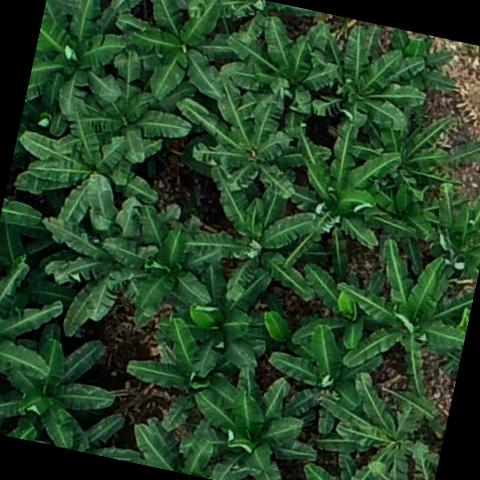Banana-plant: (159, 57, 348, 221), (22, 166, 179, 355), (317, 228, 480, 402), (3, 97, 174, 245), (179, 177, 338, 322), (114, 307, 272, 447), (176, 351, 337, 480), (19, 0, 160, 145), (92, 195, 236, 333), (288, 16, 437, 146), (292, 362, 451, 480), (0, 314, 127, 456), (345, 99, 480, 232), (258, 310, 390, 445), (108, 0, 261, 116), (208, 7, 342, 136), (371, 141, 480, 288), (68, 69, 201, 174)
